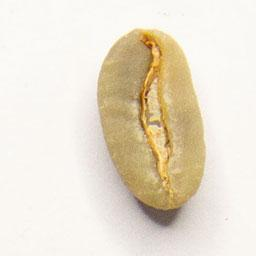longberry: (93, 24, 209, 215)
